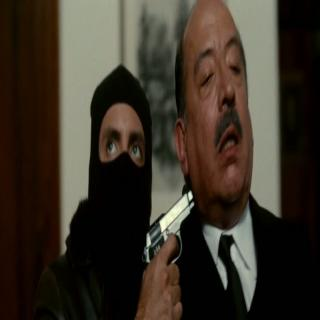gun: (140, 174, 192, 319)
